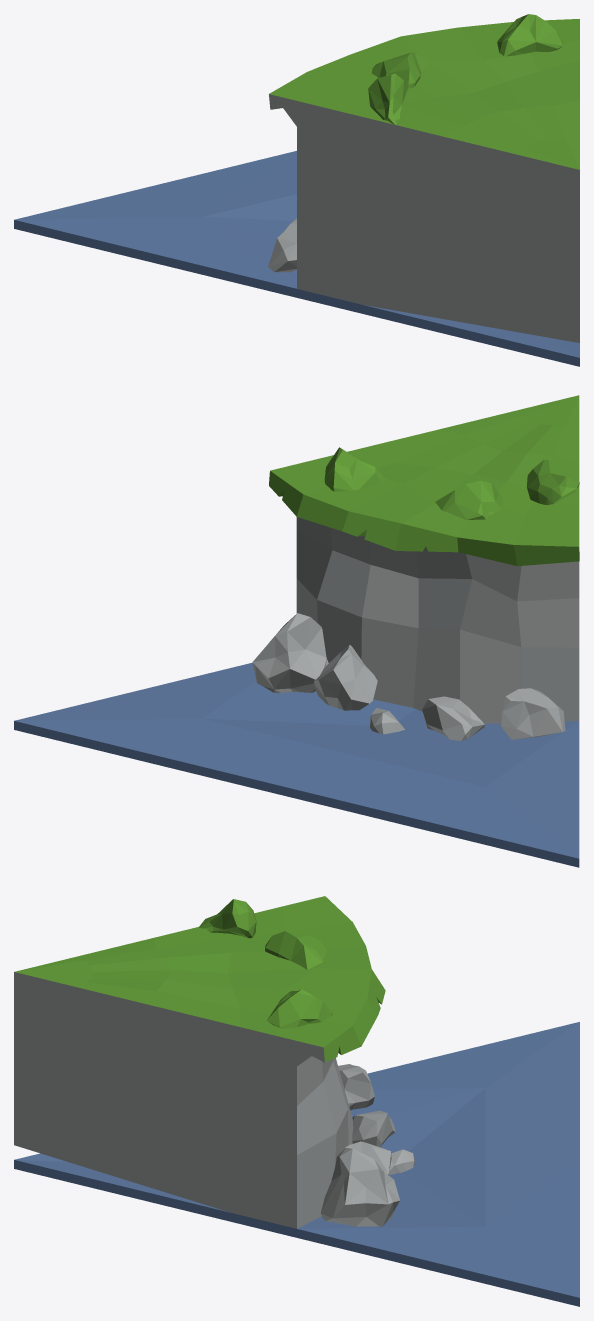
The model's file is tile8.glb.
The picture shows the model from 3 angles, top to bottom: view 1: azimuth 30°, elevation 25°; view 2: azimuth 150°, elevation 25°; view 3: azimuth 270°, elevation 25°; orthographic projection.
Visible parts, largest first — view 1: hill8, water8, bush2.003, bush3.003, bush1.003, rock1.001; view 2: hill8, water8, rock4.001, rock5.001, rock1.001, rock3.001, bush1.003, bush2.003, bush3.003, rock0.013; view 3: hill8, water8, rock4.001, bush2.003, bush1.003, bush3.003, rock3.001, rock1.001, rock5.001.
Boxes of the visible parts, box(x1,y1,x2,y2) form: hill8: box(269, 19, 579, 342); water8: box(14, 151, 579, 366); bush2.003: box(497, 14, 563, 56); bush3.003: box(368, 73, 408, 124); bush1.003: box(371, 52, 430, 88); rock1.001: box(268, 218, 296, 272); hill8: box(269, 395, 579, 723); water8: box(14, 662, 579, 867); rock4.001: box(252, 613, 328, 692); rock5.001: box(314, 645, 377, 710); rock1.001: box(500, 688, 565, 739); rock3.001: box(422, 696, 484, 740); bush1.003: box(435, 480, 502, 519); bush2.003: box(324, 447, 384, 491); bush3.003: box(527, 459, 579, 504); rock0.013: box(370, 708, 404, 734); hill8: box(14, 896, 385, 1228); water8: box(14, 1022, 579, 1306); rock4.001: box(320, 1148, 399, 1226); bush2.003: box(267, 989, 332, 1028); bush1.003: box(265, 931, 327, 969); bush3.003: box(199, 899, 256, 938); rock3.001: box(352, 1110, 395, 1147); rock1.001: box(338, 1064, 374, 1110); rock5.001: box(345, 1141, 391, 1174).
Bounding box in the file's own units: 1 × 0.4577 × 0.866.
